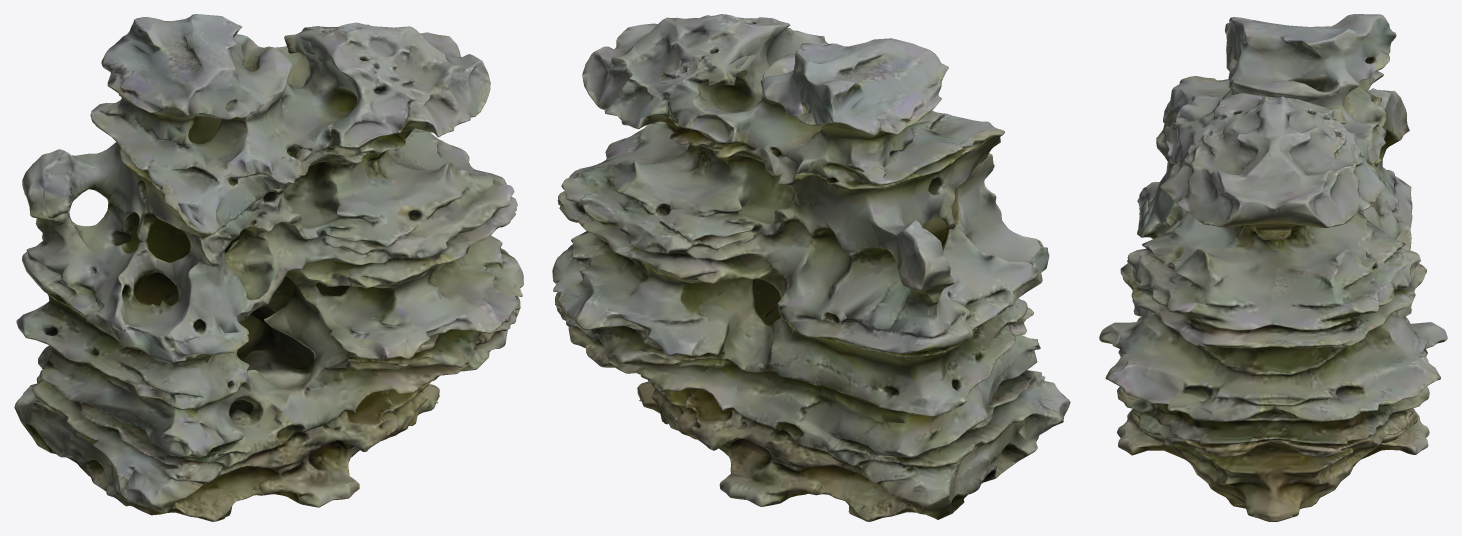
File: Dieshi_2.glb
3 views of the same model, side by side, from view 1: azimuth 30°, elevation 25°; view 2: azimuth 150°, elevation 25°; view 3: azimuth 270°, elevation 25° (orthographic). The views are drawn at different scales.
Parts seen in each view (by area): view 1: tripo_node_1bd38ae5-86b4-4793-bfae-1b0594c3d06f; view 2: tripo_node_1bd38ae5-86b4-4793-bfae-1b0594c3d06f; view 3: tripo_node_1bd38ae5-86b4-4793-bfae-1b0594c3d06f.
Part boxes in pixels (<box>): tripo_node_1bd38ae5-86b4-4793-bfae-1b0594c3d06f: <box>14,14,523,521</box>; tripo_node_1bd38ae5-86b4-4793-bfae-1b0594c3d06f: <box>552,14,1070,521</box>; tripo_node_1bd38ae5-86b4-4793-bfae-1b0594c3d06f: <box>1099,14,1447,521</box>.
Bounding box in the file's own units: 0.9796 × 0.9099 × 0.707.
Materials: 1 (1 with a texture image).
